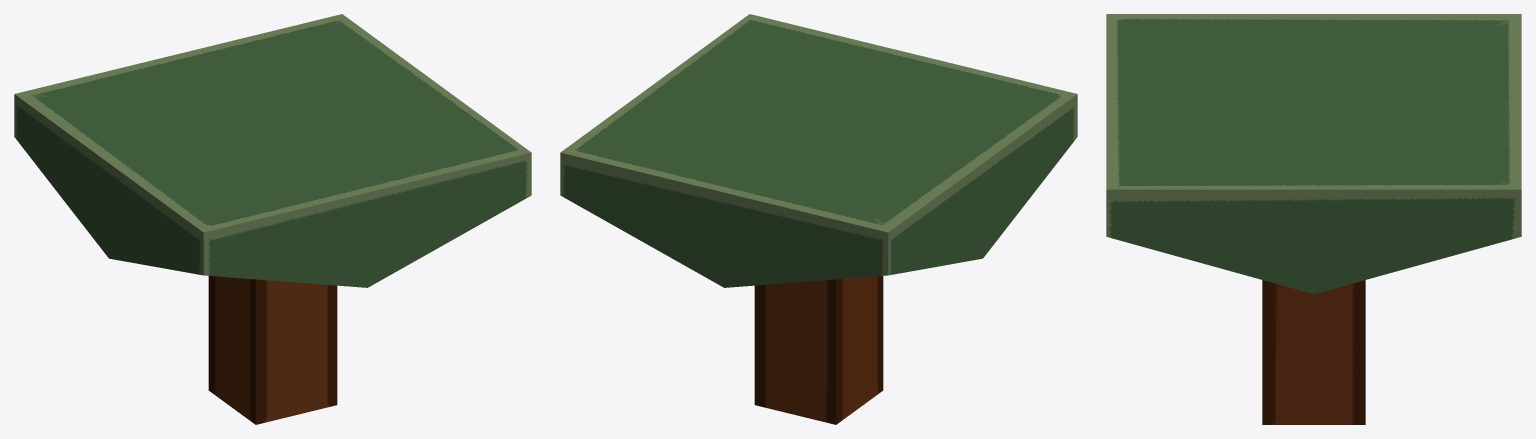
File: Table.fbx
The picture shows the model from 3 angles, left to right: view 1: azimuth 30°, elevation 25°; view 2: azimuth 150°, elevation 25°; view 3: azimuth 270°, elevation 25°; orthographic projection. The views are drawn at different scales.
Visible parts, largest first — view 1: Table; view 2: Table; view 3: Table.
Part boxes in pixels (x1,y1,x2,y2): Table: [14, 14, 531, 424]; Table: [560, 14, 1077, 424]; Table: [1106, 14, 1521, 424].
Size of the model in its own units: 2 by 1.6 by 2.
Materials: 1 (1 with a texture image).
